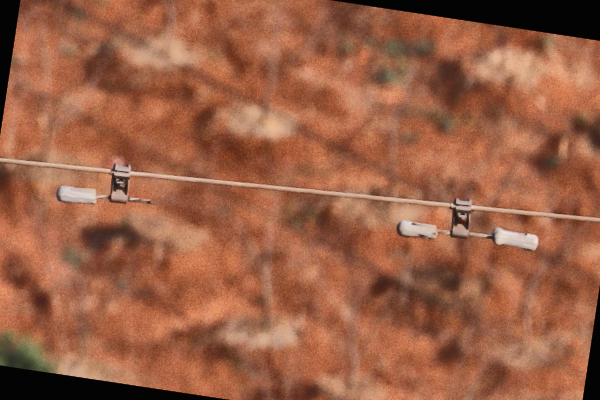damper: (392, 196, 540, 252)
damper_defect: (53, 161, 155, 209)
